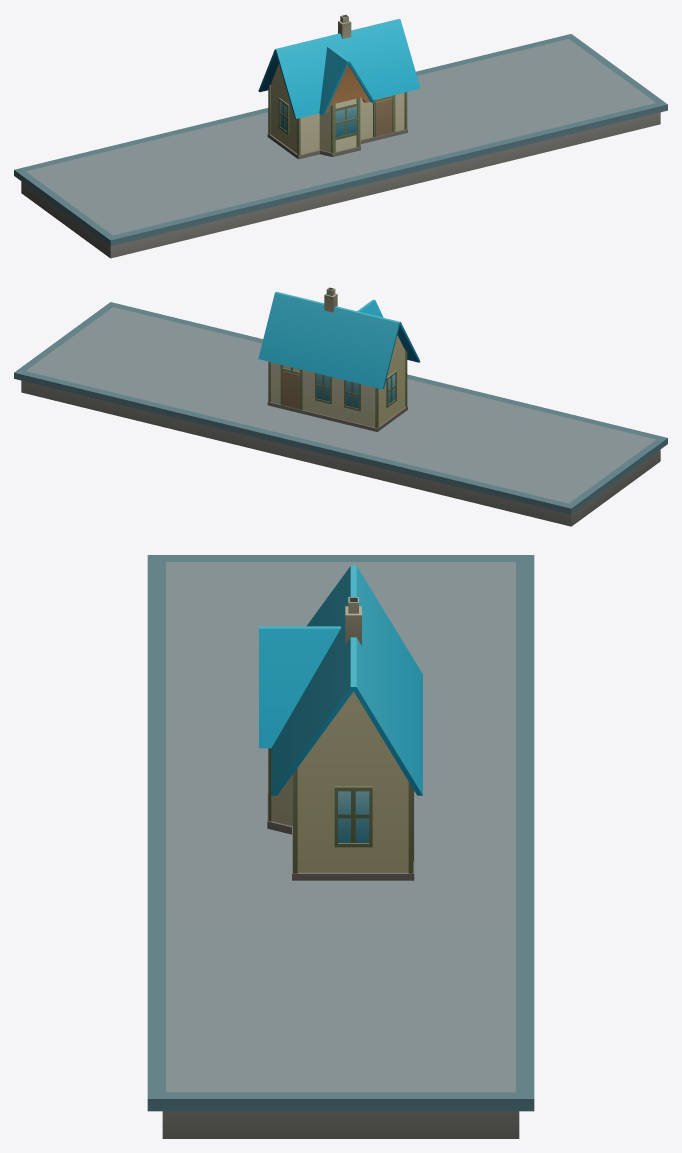
Rendered from Train_Station_C.fbx.
3 renders of one model, top to bottom at view 1: azimuth 30°, elevation 25°; view 2: azimuth 150°, elevation 25°; view 3: azimuth 270°, elevation 25°, orthographic. The views are drawn at different scales.
Parts seen in each view (by area): view 1: Train_Station_C; view 2: Train_Station_C; view 3: Train_Station_C.
Part boxes in pixels (left/top/right/bottom): Train_Station_C: left=14, top=14, right=667, bottom=258; Train_Station_C: left=14, top=287, right=667, bottom=526; Train_Station_C: left=147, top=555, right=534, bottom=1138.
Bounding box in the file's own units: 3624 × 862 × 1088.
